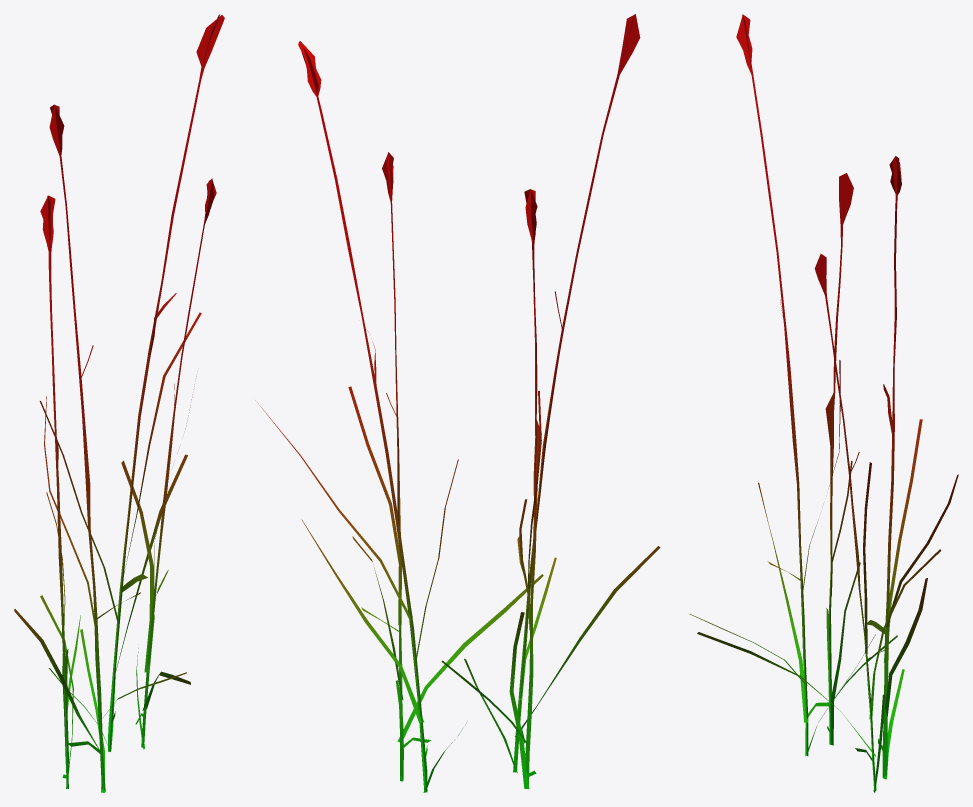
File: Tundra Grass_LOD2_Var34_wk2oaeyqx.fbx
3 views of the same model, side by side, from view 1: azimuth 30°, elevation 25°; view 2: azimuth 150°, elevation 25°; view 3: azimuth 270°, elevation 25° (orthographic). The views are drawn at different scales.
Visible parts, largest first — view 1: _y4fd_Var34_LOD2; view 2: _y4fd_Var34_LOD2; view 3: _y4fd_Var34_LOD2.
Boxes of the visible parts, <box> form: _y4fd_Var34_LOD2: <box>14,14,224,792</box>; _y4fd_Var34_LOD2: <box>255,14,660,792</box>; _y4fd_Var34_LOD2: <box>689,14,958,792</box>.
Bounding box in the file's own units: 19.91 × 47.86 × 16.63.
